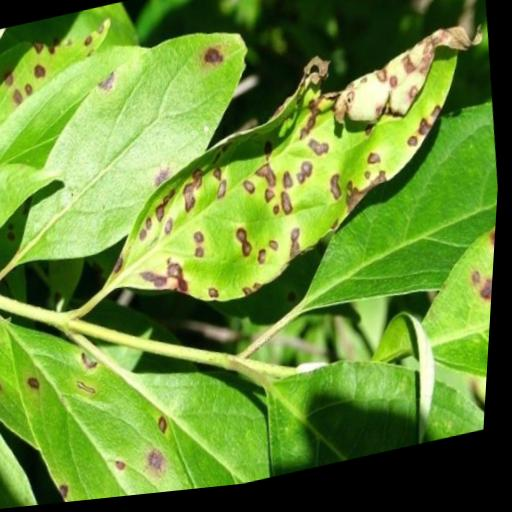Bacterial Spot: (76, 8, 503, 346), (4, 7, 284, 273)
